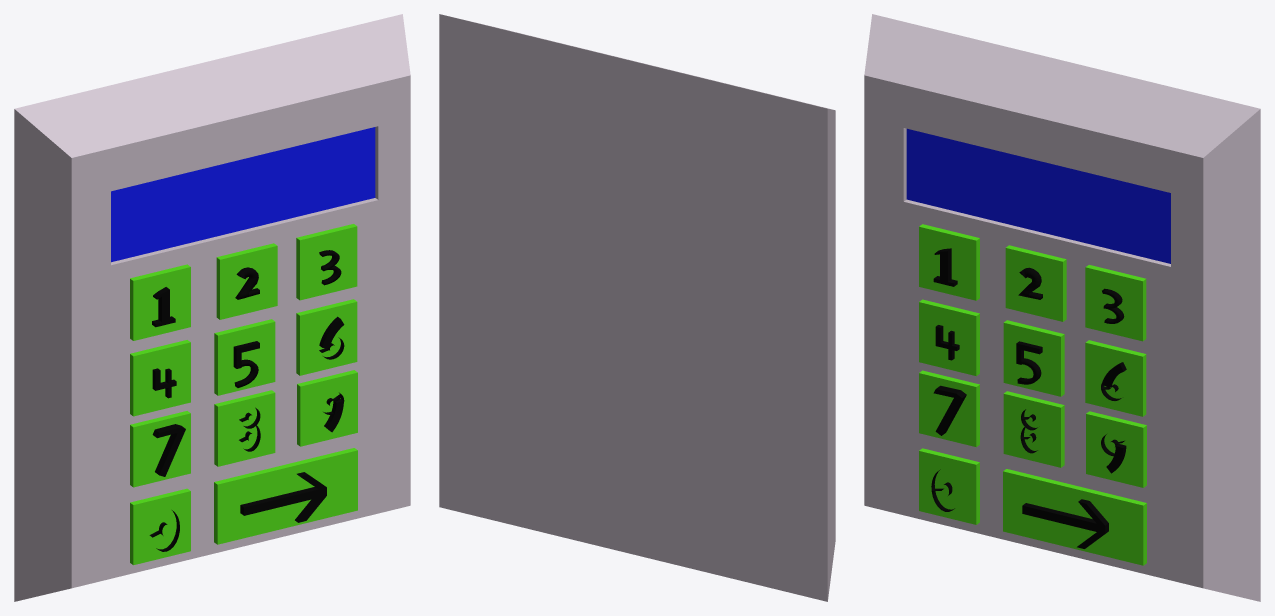
File: fixed_keypad_2.fbx
3 renders of one model, left to right at view 1: azimuth 30°, elevation 25°; view 2: azimuth 150°, elevation 25°; view 3: azimuth 330°, elevation 25°, orthographic.
Parts seen in each view (by area): view 1: Cube.010, Cube.019; view 2: Cube.010; view 3: Cube.010, Cube.019.
Part boxes in pixels (x1,y1,x2,y2): Cube.010: [14, 14, 410, 601]; Cube.019: [149, 250, 344, 551]; Cube.010: [439, 14, 835, 601]; Cube.010: [864, 14, 1260, 601]; Cube.019: [931, 248, 1126, 548].
Size of the model in its own units: 78.3 by 94.99 by 14.26.
